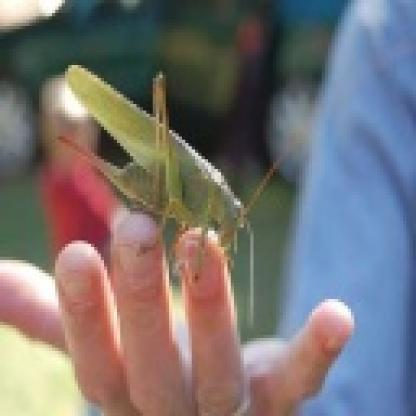grasshopper: (55, 55, 272, 279)
